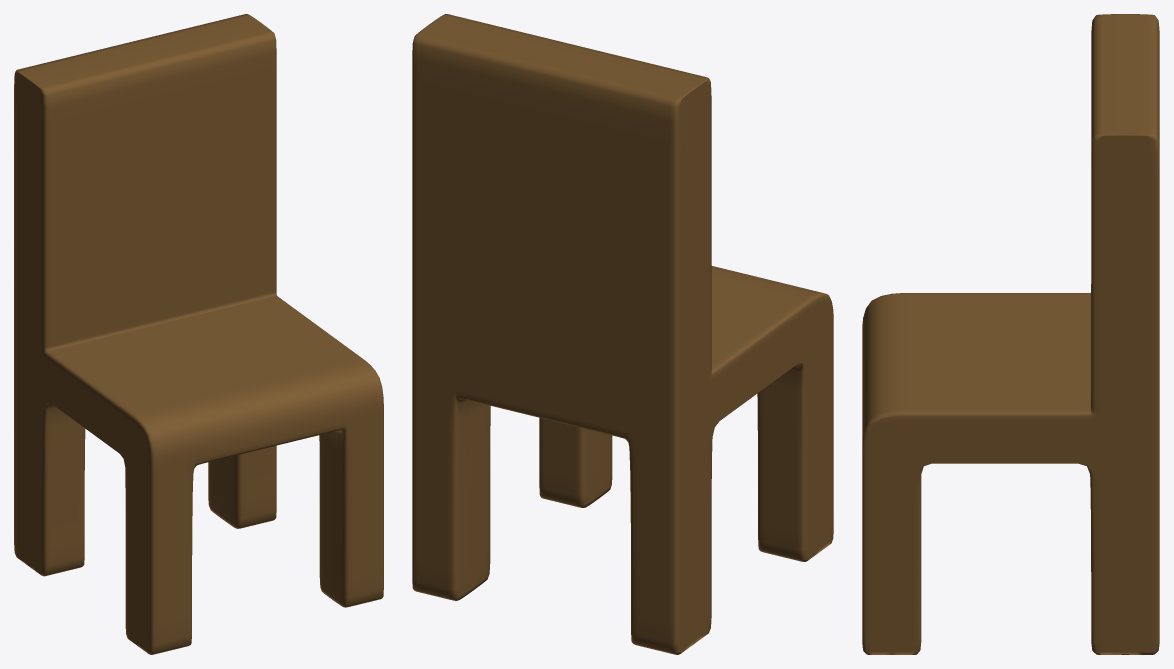
The model's file is Chair.fbx.
The picture shows the model from 3 angles, left to right: view 1: azimuth 30°, elevation 25°; view 2: azimuth 150°, elevation 25°; view 3: azimuth 270°, elevation 25°; orthographic projection. The views are drawn at different scales.
Parts seen in each view (by area): view 1: Cube; view 2: Cube; view 3: Cube.
Boxes of the visible parts, left/top/right/bottom form: Cube: left=14, top=14, right=383, bottom=654; Cube: left=412, top=14, right=833, bottom=654; Cube: left=862, top=14, right=1159, bottom=654.
Bounding box in the file's own units: 245 × 490 × 254.
